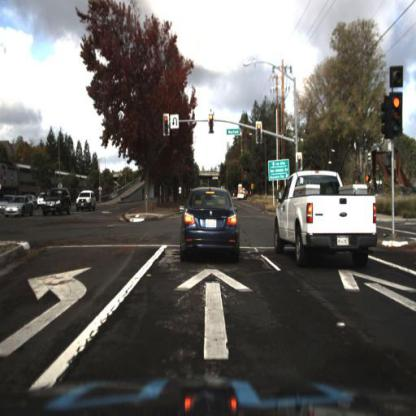car: (272, 172, 379, 259), (180, 184, 244, 259), (43, 187, 73, 217), (5, 195, 34, 220), (78, 188, 96, 213)
trafficLight-Red: (390, 95, 404, 139), (256, 122, 264, 148), (208, 113, 216, 134), (295, 154, 303, 175)
trafficLight-RedLeft: (163, 115, 171, 136)
